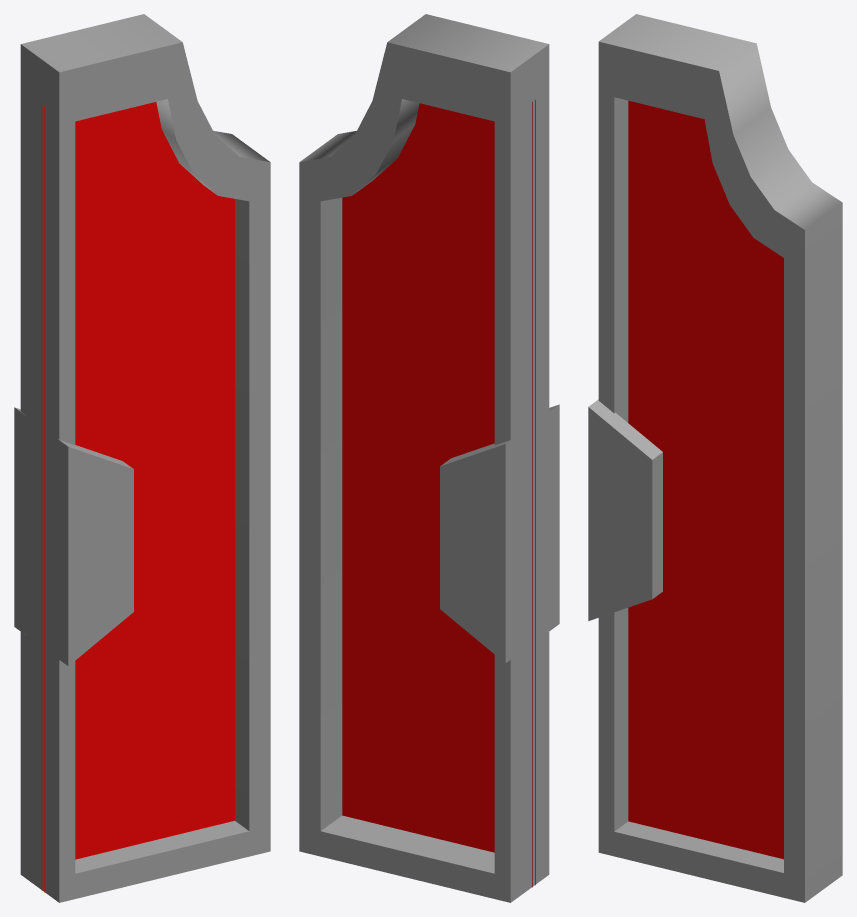
File: PuertaR.fbx
3 renders of one model, left to right at view 1: azimuth 30°, elevation 25°; view 2: azimuth 150°, elevation 25°; view 3: azimuth 330°, elevation 25°, orthographic. The views are drawn at different scales.
Visible parts, largest first — view 1: PuertaR; view 2: PuertaR; view 3: PuertaR.
Boxes of the visible parts, x1,y1,x2,y2 form: PuertaR: (14,14,270,902); PuertaR: (299,14,559,902); PuertaR: (588,14,842,902).
Bounding box in the file's own units: 88.75 × 332 × 39.23.
